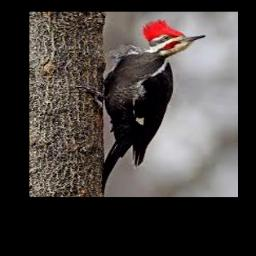Woodpecker: (76, 20, 205, 196)
